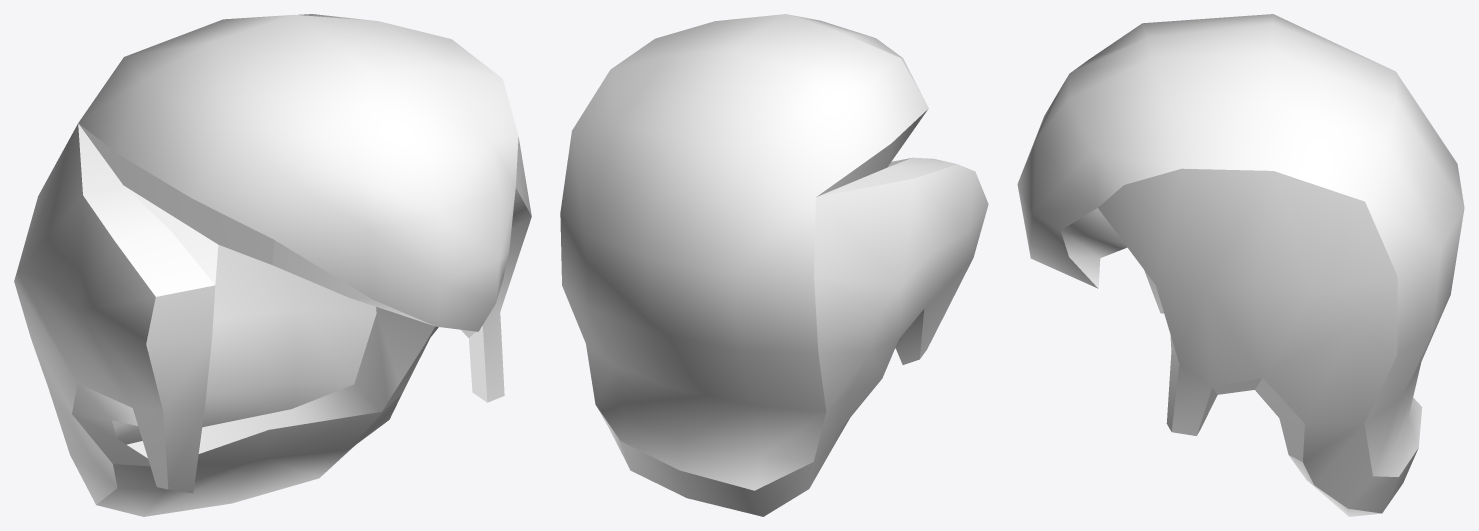
Rendered from Male_Hairs_05_v4.fbx.
3 renders of one model, left to right at view 1: azimuth 30°, elevation 25°; view 2: azimuth 150°, elevation 25°; view 3: azimuth 270°, elevation 25°, orthographic. The views are drawn at different scales.
Visible parts, largest first — view 1: Male_Hairs_05_v4; view 2: Male_Hairs_05_v4; view 3: Male_Hairs_05_v4.
Part boxes in pixels (x1,y1,x2,y2): Male_Hairs_05_v4: (14, 14, 531, 516); Male_Hairs_05_v4: (560, 14, 988, 516); Male_Hairs_05_v4: (1017, 14, 1464, 516).
Size of the model in its own units: 66.77 by 74.21 by 67.73.
